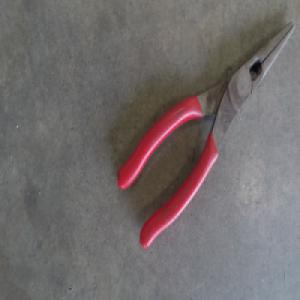Pliers: (111, 18, 283, 246)
